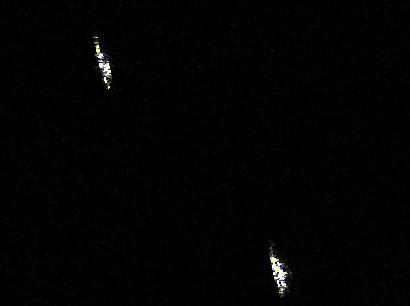ship: (91, 39, 116, 88), (266, 250, 290, 295)
